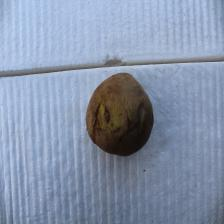Diseased-fungal potato: (84, 72, 156, 156)
